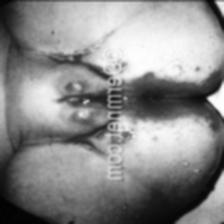Unclassified: (45, 42, 104, 140), (125, 71, 201, 127)
